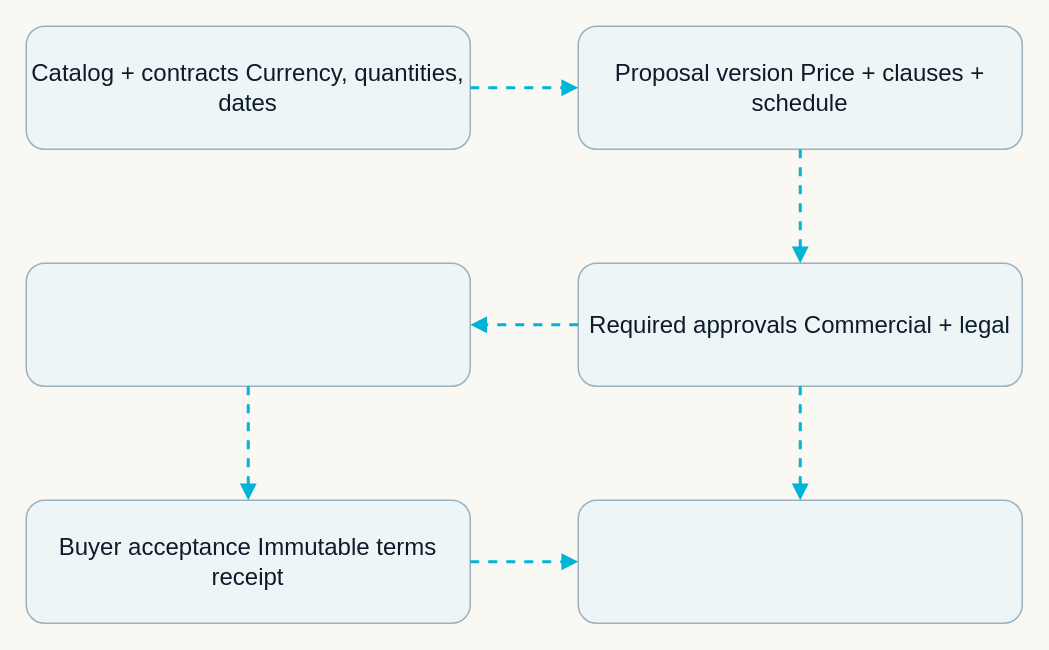
Some shapes in this 1049 by 650 pixel diagram are drawn without their labels. Each missing label, with the centre of its shape:
Prepare and review again Earlier consent stays fixed: (x=799, y=561)
Publish exact terms Current evidence only: (x=247, y=324)
